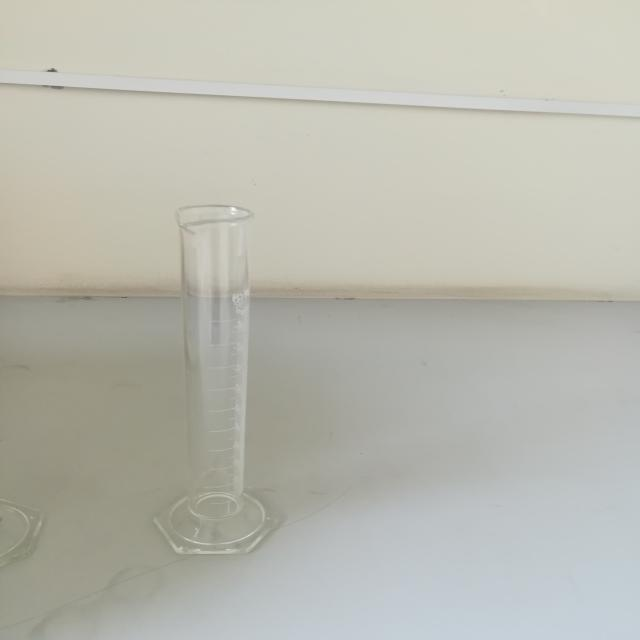Measuring_Cylinder: (119, 168, 325, 582)
